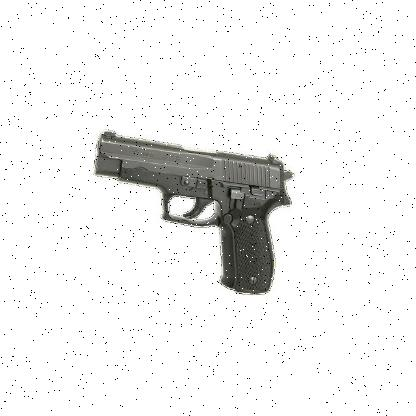gun: (92, 128, 298, 296)
